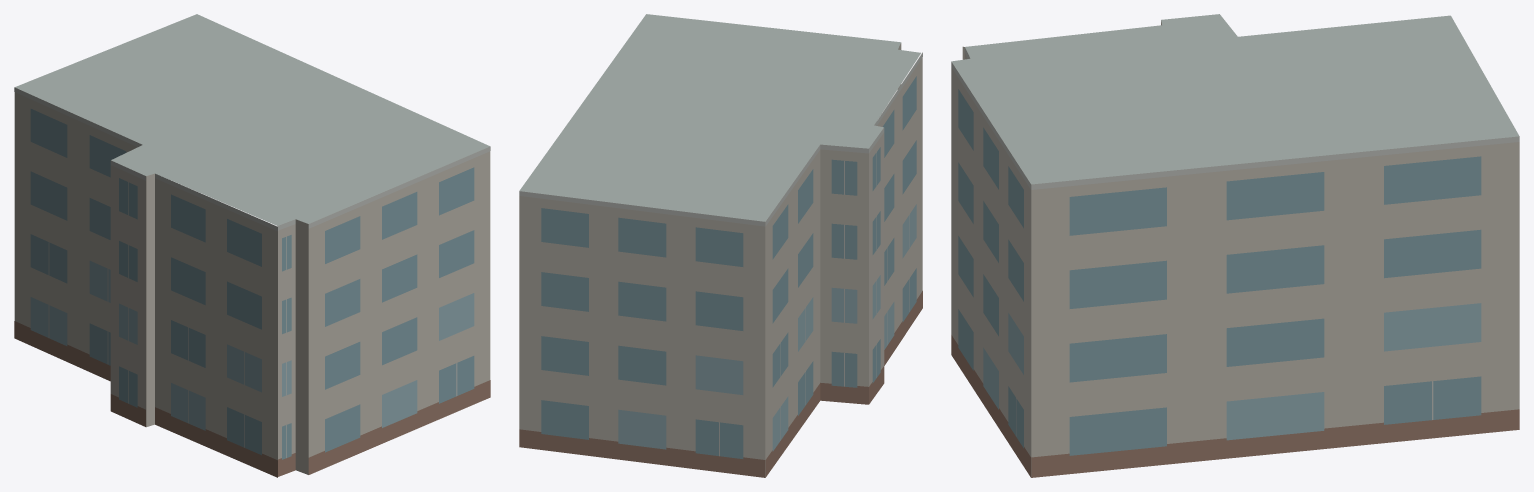
The model's file is survey-upis-32812525.glb.
The picture shows the model from 3 angles, left to right: view 1: azimuth 30°, elevation 25°; view 2: azimuth 150°, elevation 25°; view 3: azimuth 270°, elevation 25°; orthographic projection. The views are drawn at different scales.
Visible parts, largest first — view 1: survey-upis-32812525.tmp; view 2: survey-upis-32812525.tmp; view 3: survey-upis-32812525.tmp.
Boxes of the visible parts, x1,y1,x2,y2 form: survey-upis-32812525.tmp: (14,14,490,477); survey-upis-32812525.tmp: (519,14,922,477); survey-upis-32812525.tmp: (951,14,1519,477).
Size of the model in its own units: 16.09 by 12.9 by 22.66.
